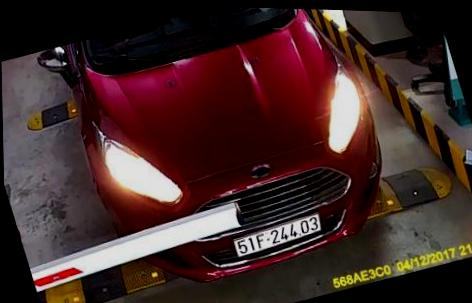License_Plate: (234, 213, 325, 263)
